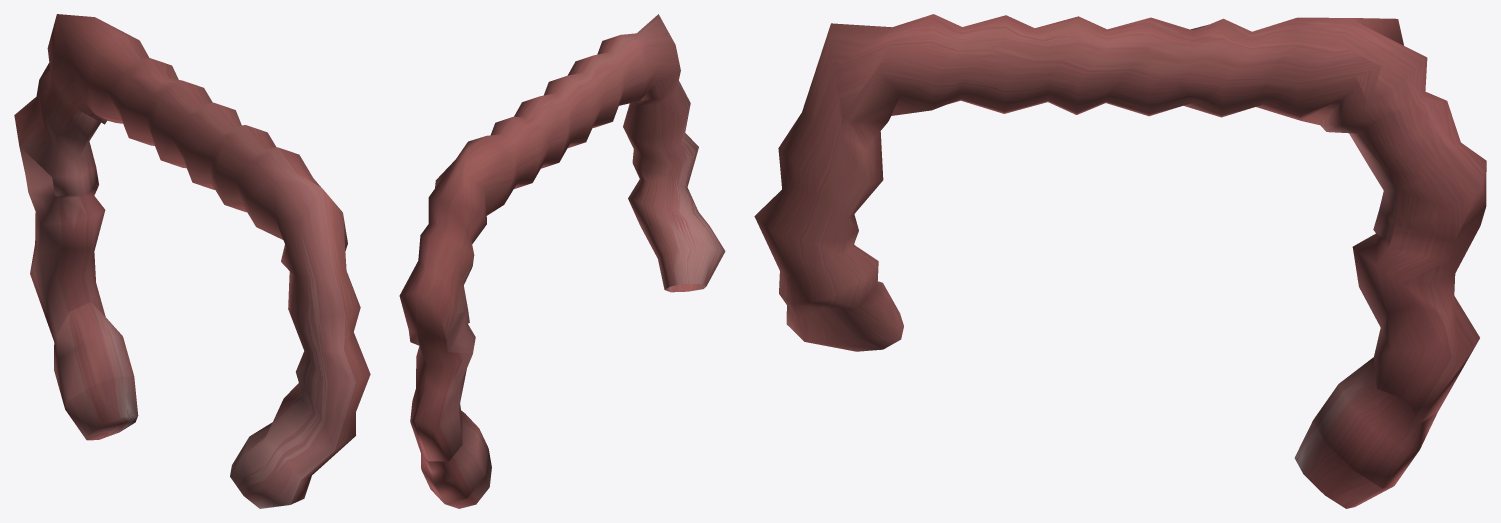
The model's file is LargeIntestine.fbx.
3 renders of one model, left to right at view 1: azimuth 30°, elevation 25°; view 2: azimuth 150°, elevation 25°; view 3: azimuth 270°, elevation 25°, orthographic. The views are drawn at different scales.
Visible parts, largest first — view 1: LargeIntestine; view 2: LargeIntestine; view 3: LargeIntestine.
Boxes of the visible parts, x1,y1,x2,y2 form: LargeIntestine: (14, 14, 370, 508); LargeIntestine: (399, 14, 725, 508); LargeIntestine: (754, 14, 1486, 508).
Size of the model in its own units: 240 by 912 by 1236.
1 material, 1 textured.
